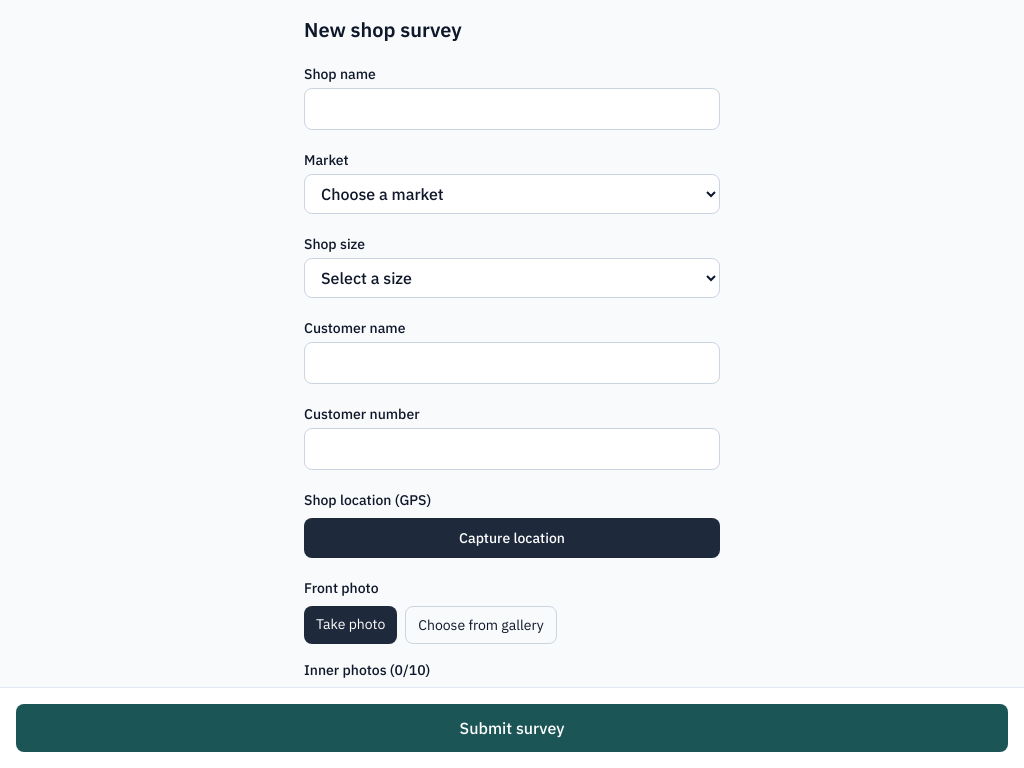
SurveyForm validation › shows a phone-format error for a bad number
Type "12345" into the field labelled "Customer number" at (512, 449), box [304,428,720,470]
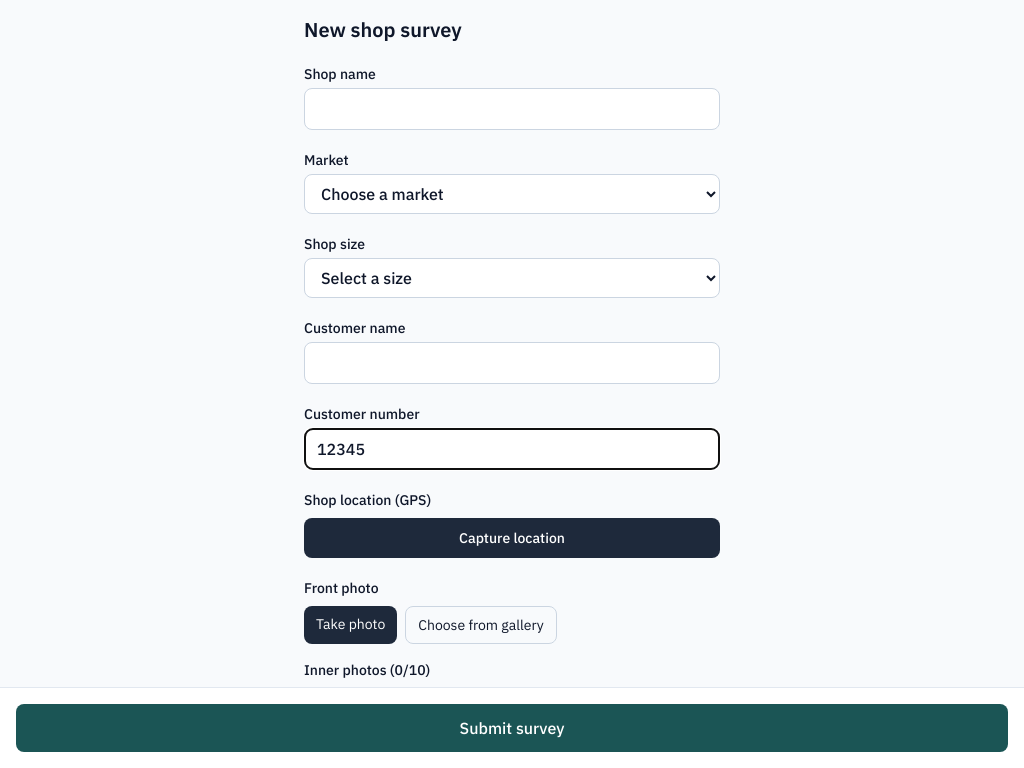
Click the button "Submit survey" at (512, 728), box [16,704,1008,752]
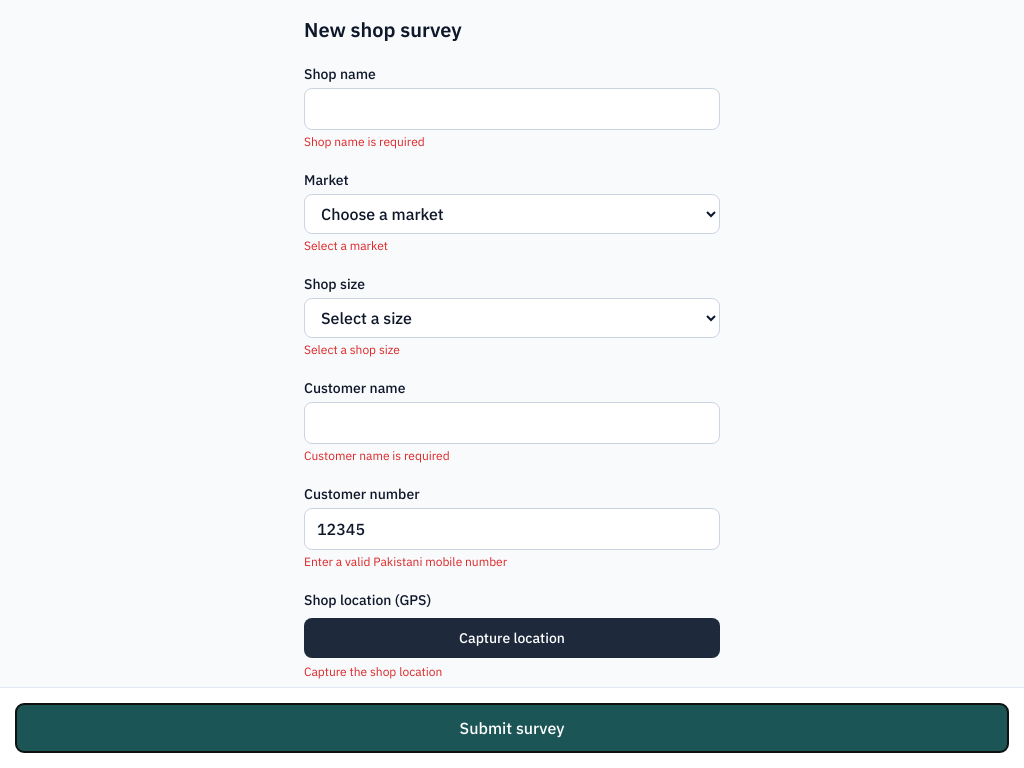
Check: the text "Enter a valid Pakistani mobile number" is shown, box [304,554,507,569]
